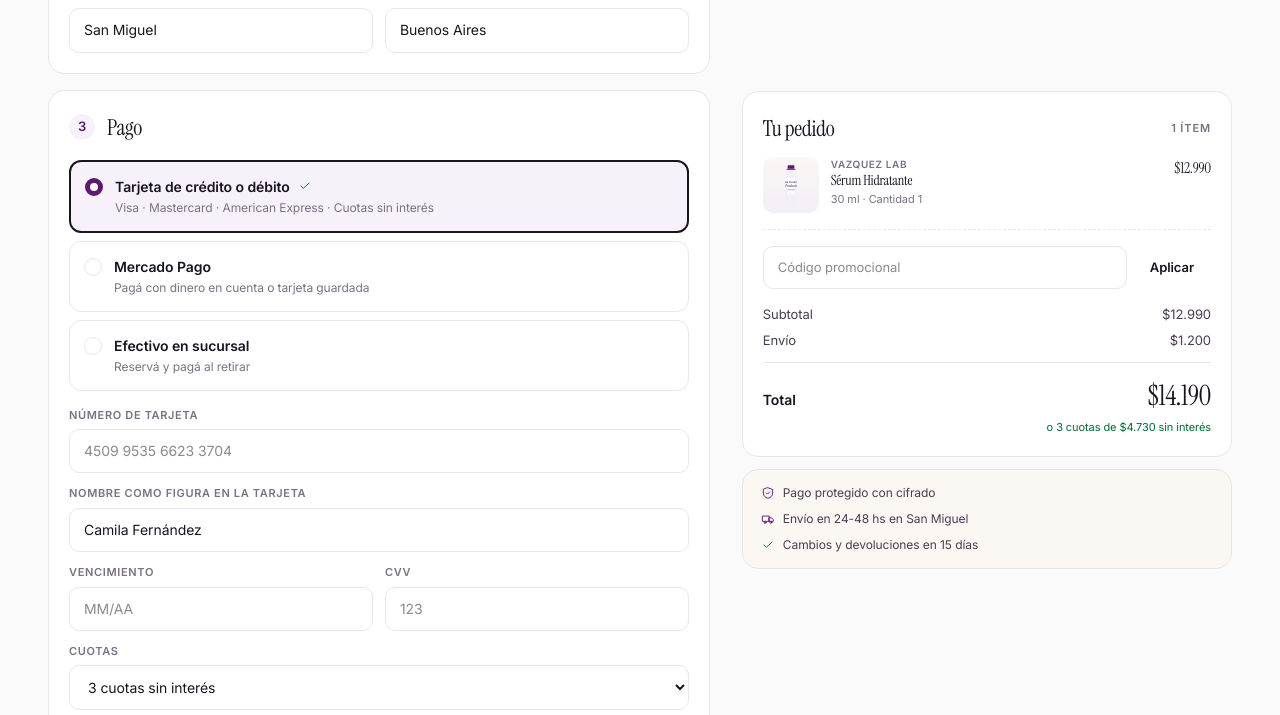
Scenario: CheckoutView › submits successfully (efectivo pay mode) and shows the success view
(page scrolled)
What coordinates should you click on to do the following:
click the radio button labelled "Efectivo en sucursal Reservá y pagá al retirar"
I would click on:
 (182, 345)
Its box is [69,320,689,391].
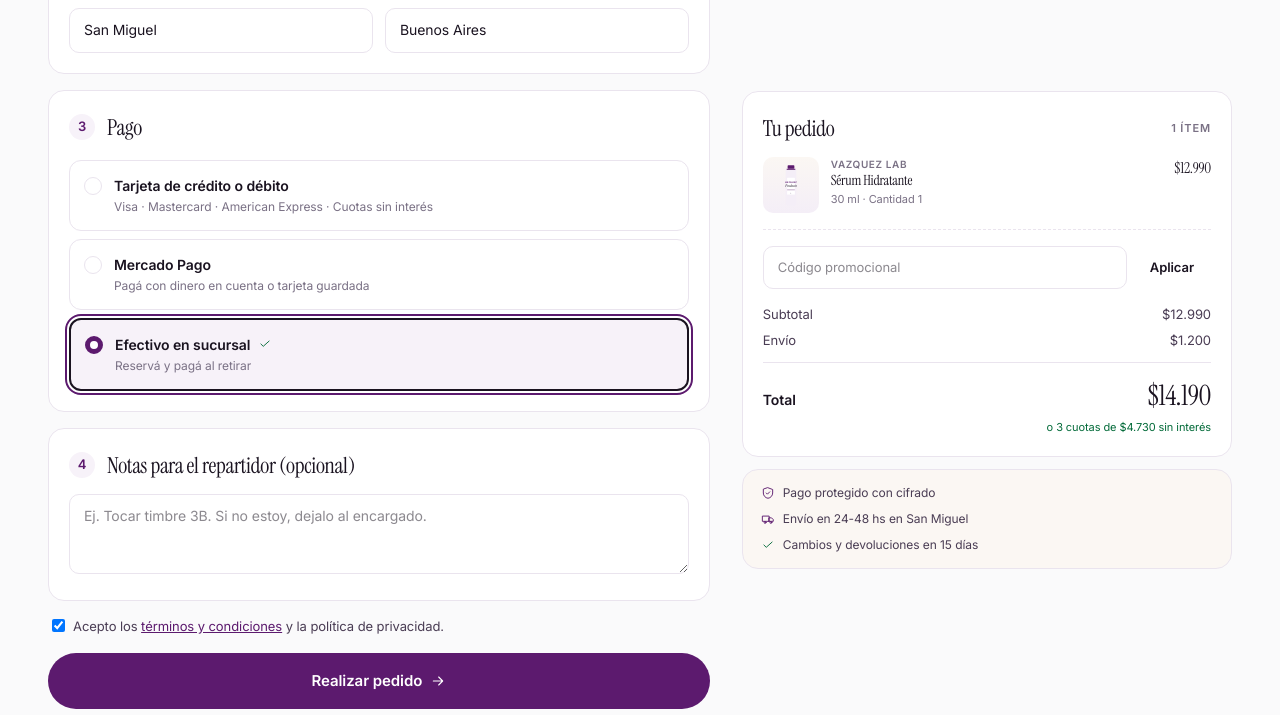
What coordinates should you click on to do the following:
click the button "Realizar pedido"
I would click on:
 (379, 681)
Its box is [48,653,710,709].
(page scrolled)
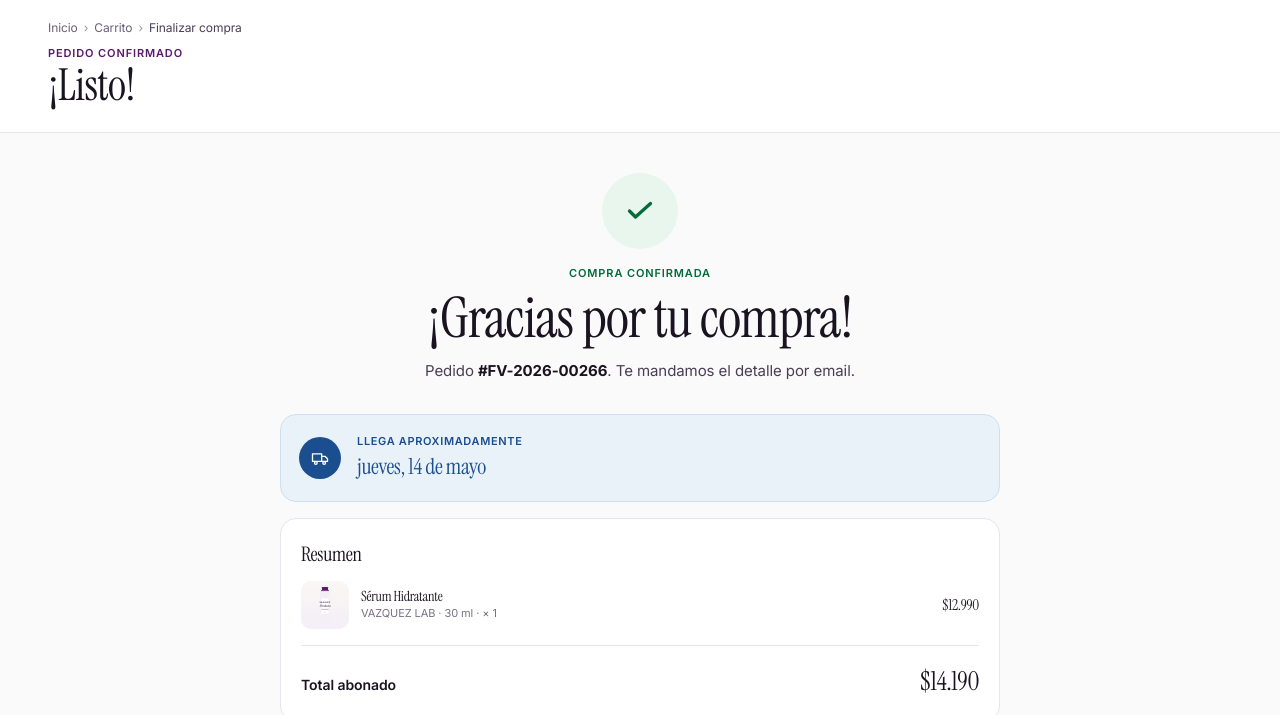
expect the heading "¡Listo!" is shown: met, box [48,56,135,114]
